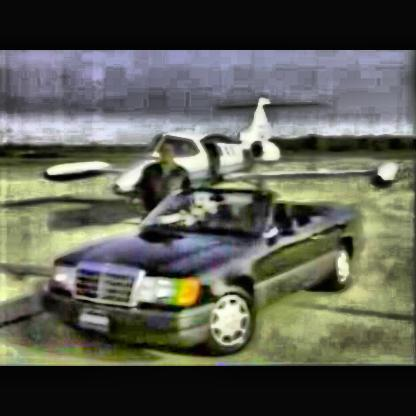Mercedes-Benz 300-Class Convertible 1993: (38, 183, 368, 358)
